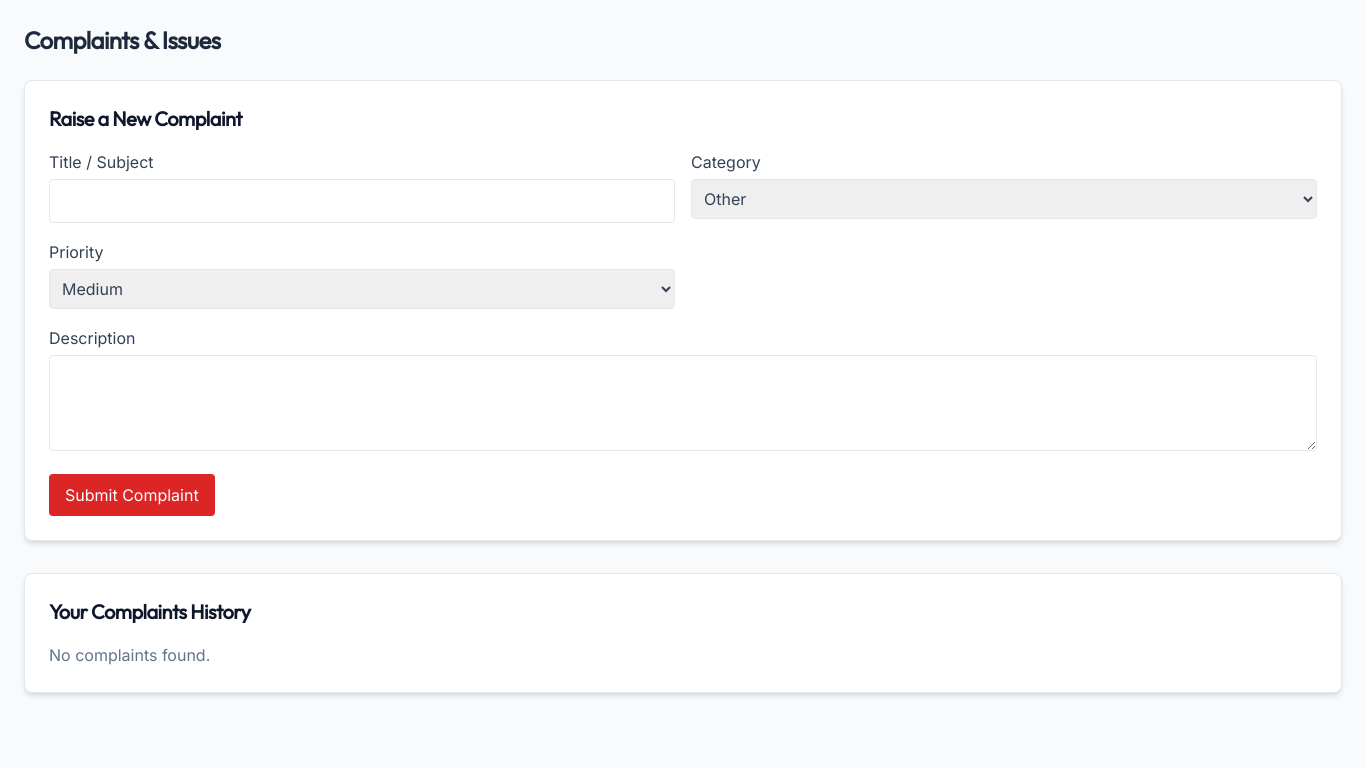
it: Tenant Complaints Component › shows failure message when API returns success: false
Type "Test" into the field labelled "Title / Subject" at (362, 201), box [49,179,675,223]
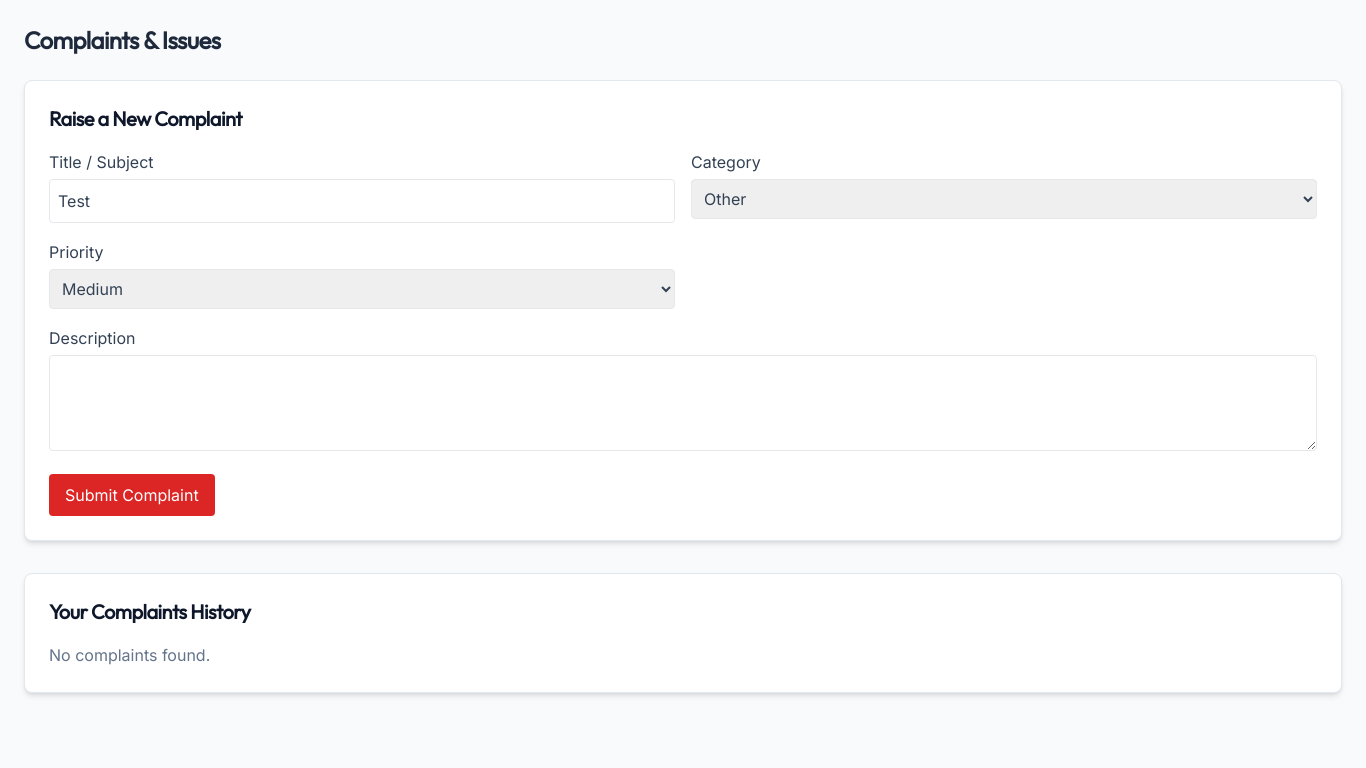
Type "Test description." into the text box labelled "Description" at (683, 403), box [49,355,1317,451]
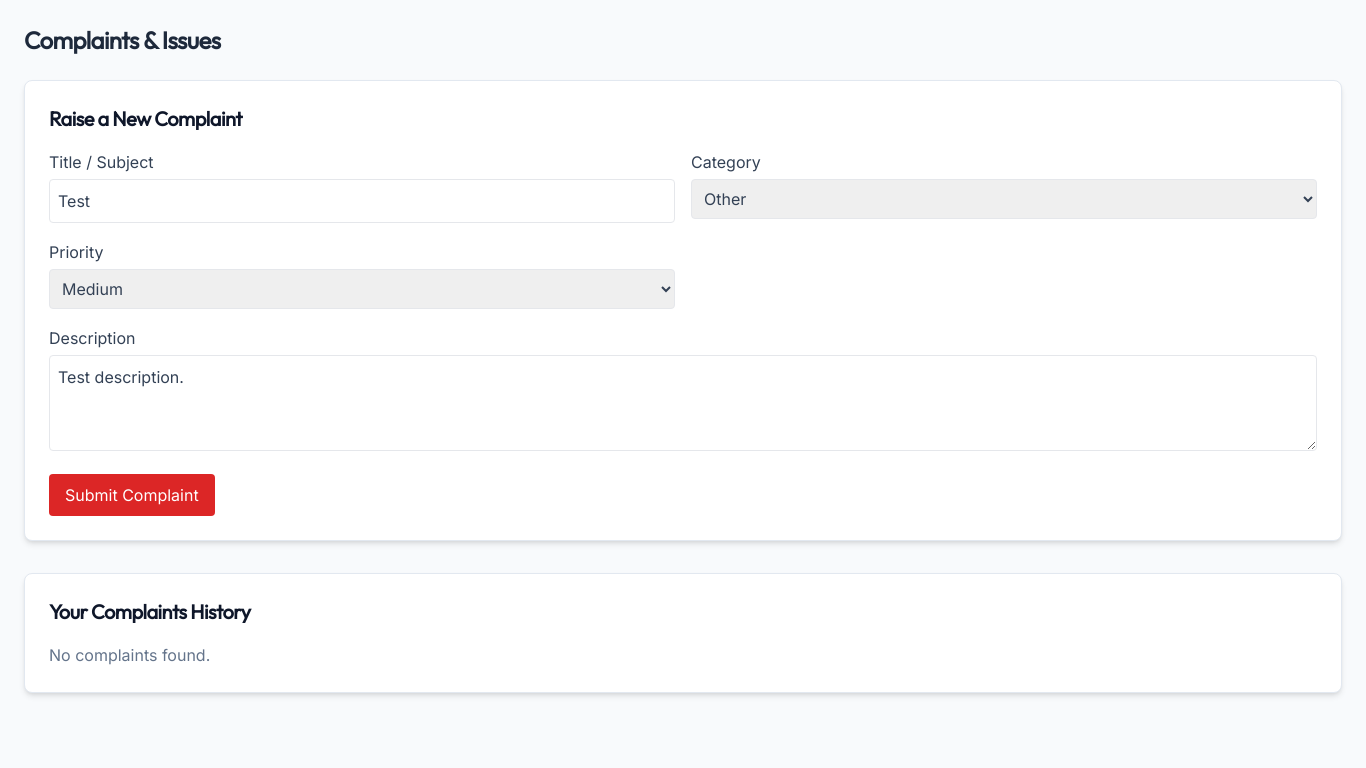
Click the button "Submit Complaint" at (132, 495), box [49,474,215,516]
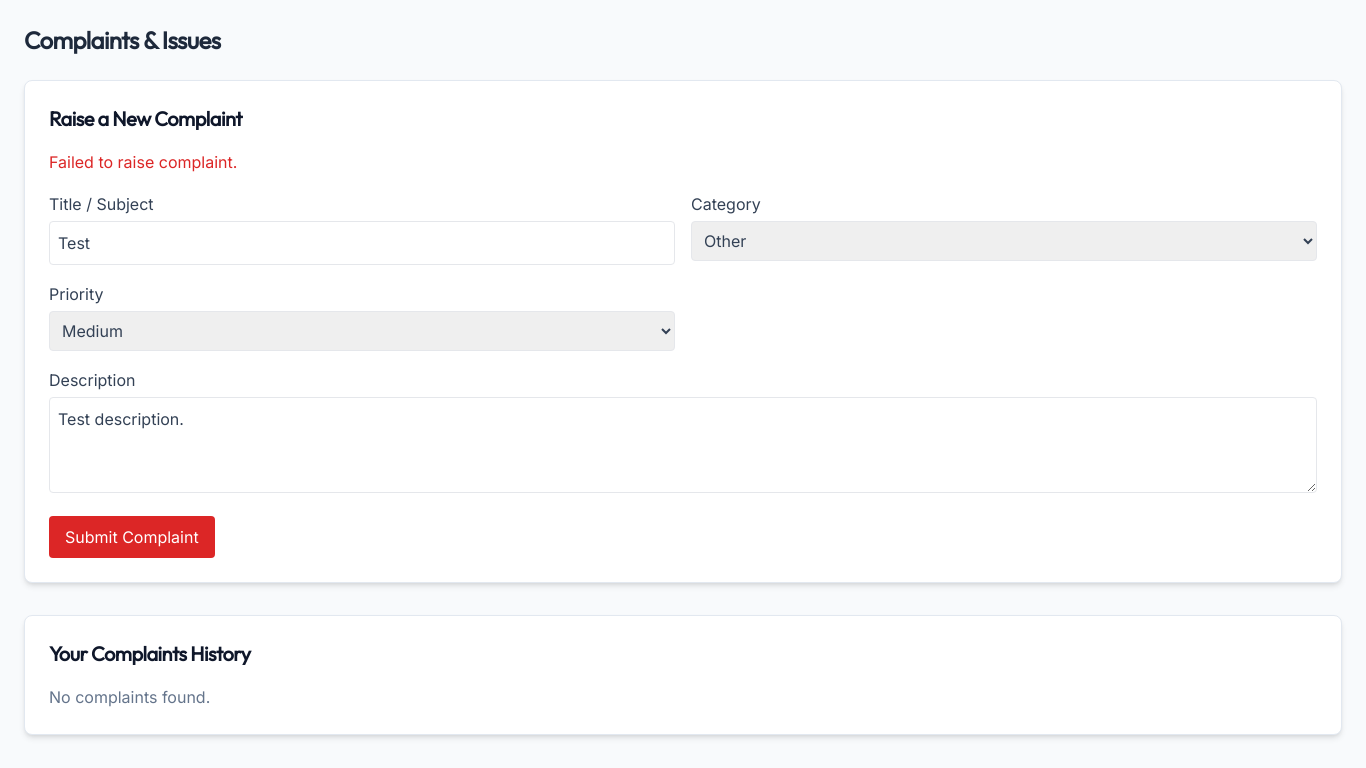
Check: the text "Failed to raise complaint." is shown, box [49,152,237,172]
